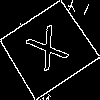X: (24, 24, 77, 81)
